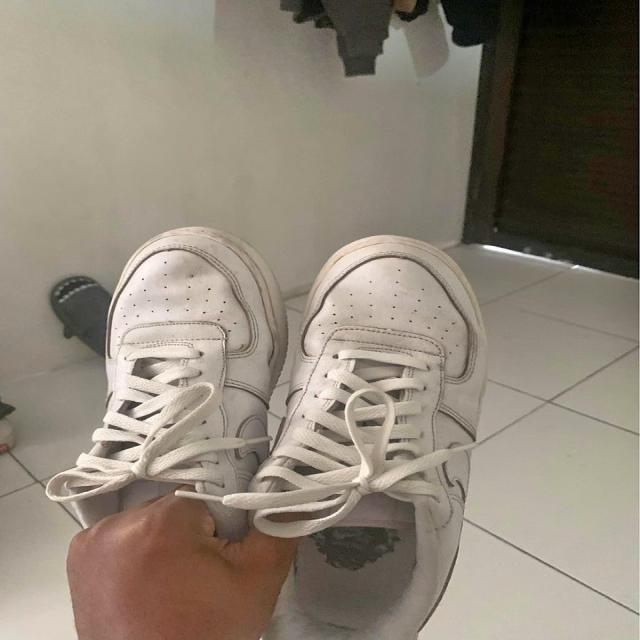nike fake air force: (249, 233, 492, 640), (45, 228, 292, 544)
